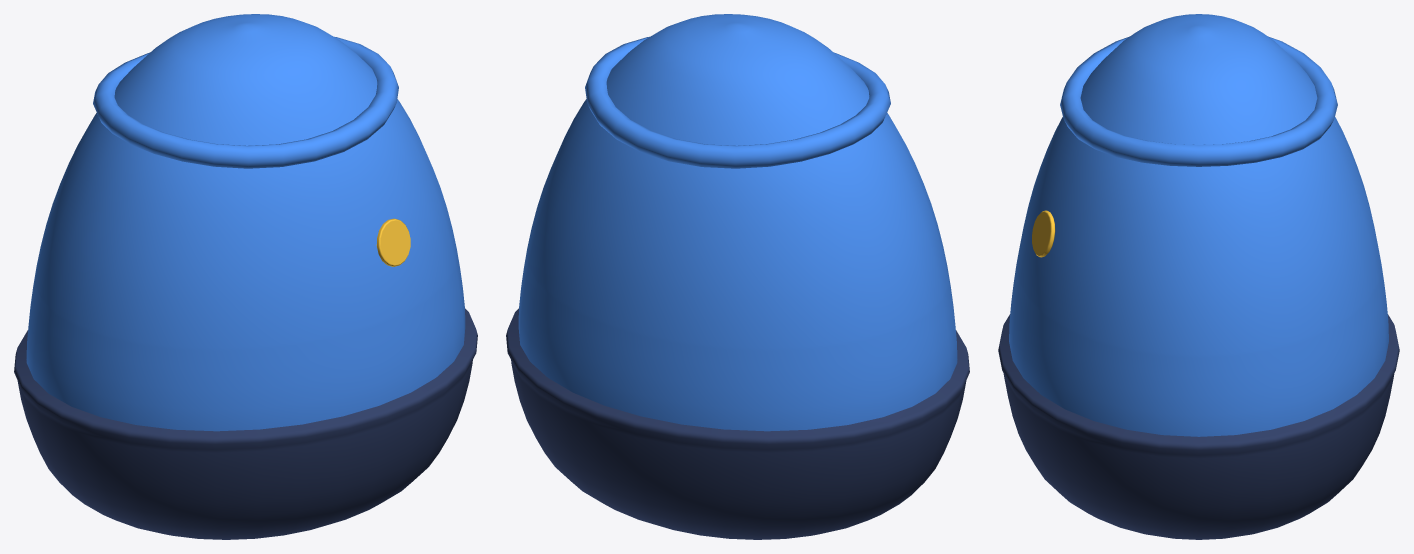
File: char_torso_tee.glb
3 views of the same model, side by side, from view 1: azimuth 30°, elevation 25°; view 2: azimuth 150°, elevation 25°; view 3: azimuth 270°, elevation 25° (orthographic). The views are drawn at different scales.
Visible parts, largest first — view 1: Chest, char_torso_tee; view 2: Chest, char_torso_tee; view 3: Chest, char_torso_tee.
Boxes of the visible parts, x1,y1,x2,y2 form: Chest: [34, 14, 457, 351]; char_torso_tee: [14, 253, 477, 539]; Chest: [526, 14, 949, 351]; char_torso_tee: [506, 253, 969, 539]; Chest: [1016, 14, 1381, 358]; char_torso_tee: [998, 268, 1399, 539].
Bounding box in the file's own units: 0.5197 × 0.569 × 0.4417.
